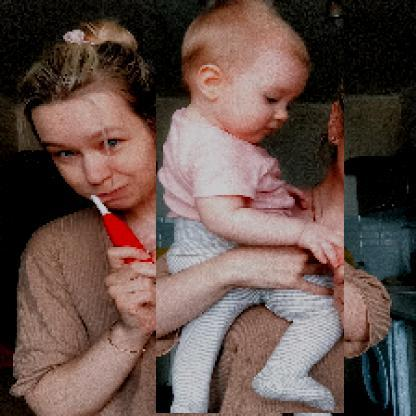child: (157, 1, 346, 415)
